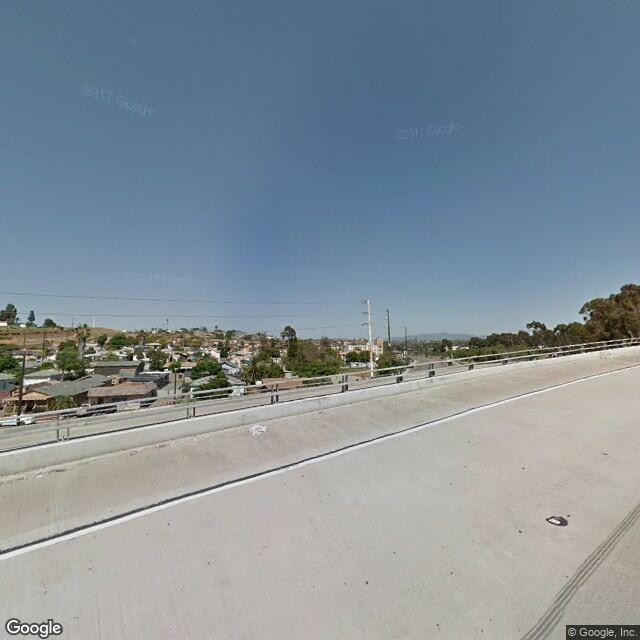litter: (251, 421, 270, 436)
